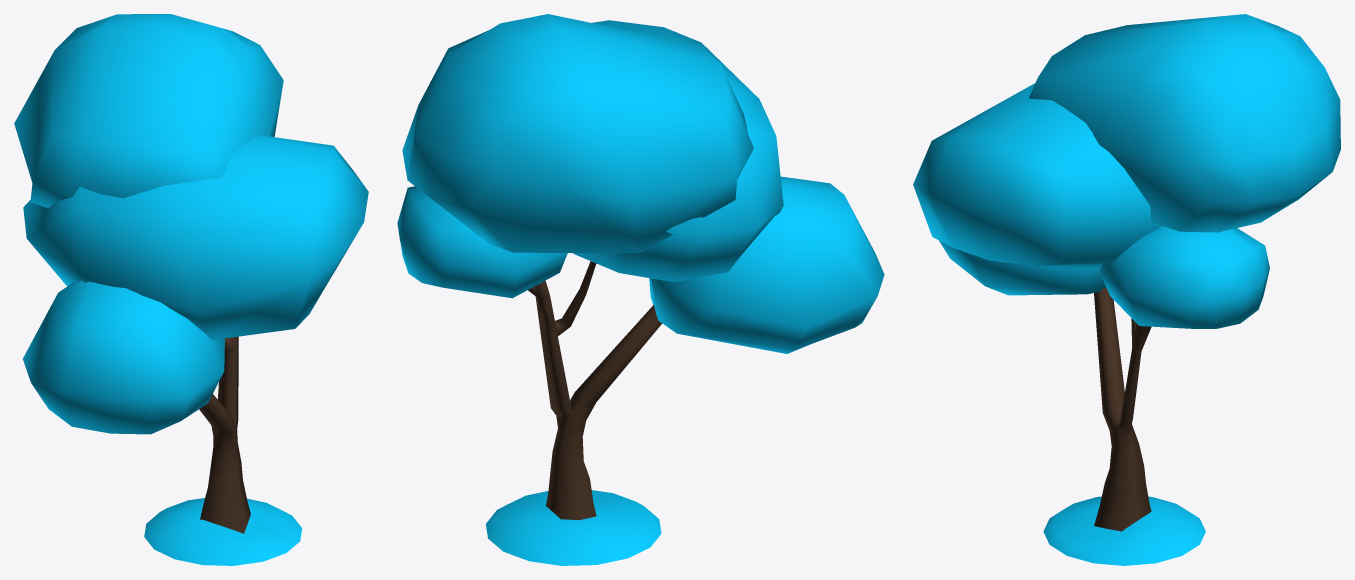
Rendered from blue tree 3.fbx.
3 views of the same model, side by side, from view 1: azimuth 30°, elevation 25°; view 2: azimuth 150°, elevation 25°; view 3: azimuth 270°, elevation 25° (orthographic). The views are drawn at different scales.
Parts seen in each view (by area): view 1: Tree-03; view 2: Tree-03; view 3: Tree-03.
Boxes of the visible parts, x1=… form: Tree-03: x1=14, y1=14, x2=368, y2=565; Tree-03: x1=397, y1=14, x2=884, y2=565; Tree-03: x1=913, y1=14, x2=1340, y2=565.
Bounding box in the file's own units: 322 × 422 × 331.
